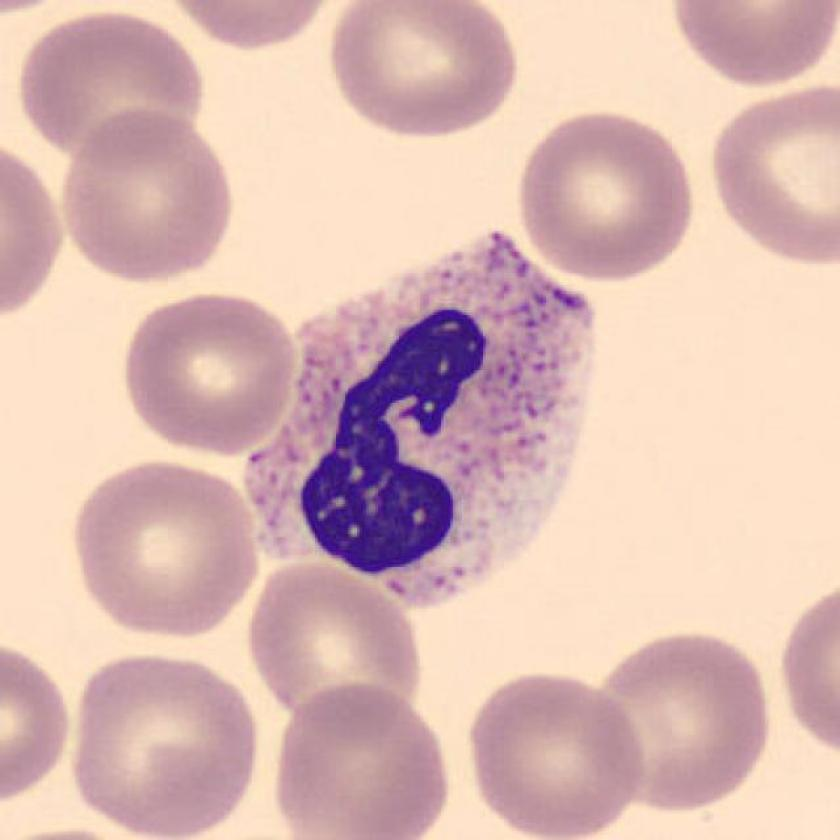neutrophil: (244, 236, 594, 609)
